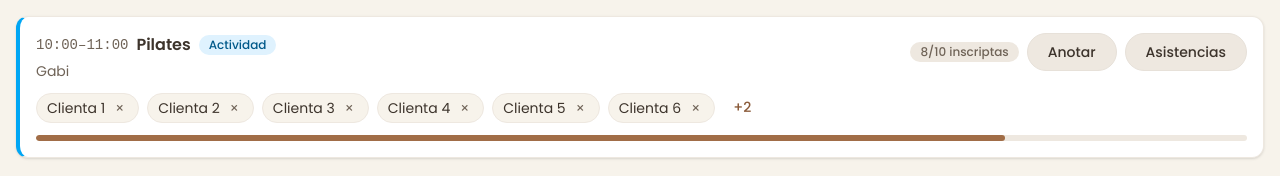
Test case: anotadas en la card › con más de 6 muestra 6 y +N que despliega
Expected: the text "Clienta 7" is not shown
Click the button "+2".
click(742, 107)  # box [723,93,761,121]
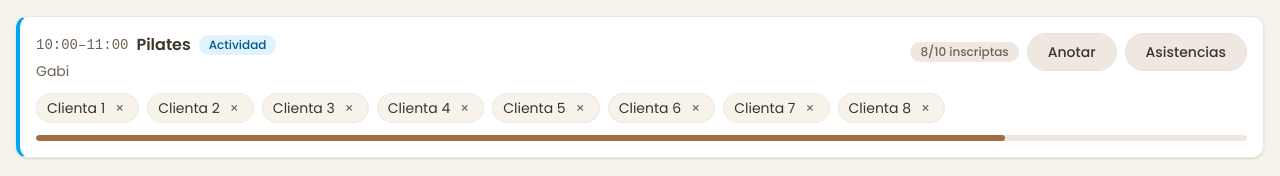
Now the text "Clienta 8" is shown, box [848,98,911,118]
